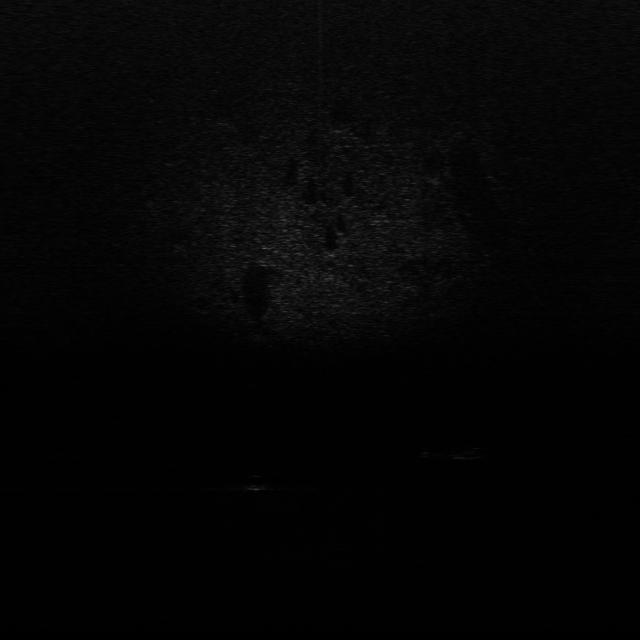ball: (241, 470, 273, 496)
human body: (423, 446, 492, 462)
